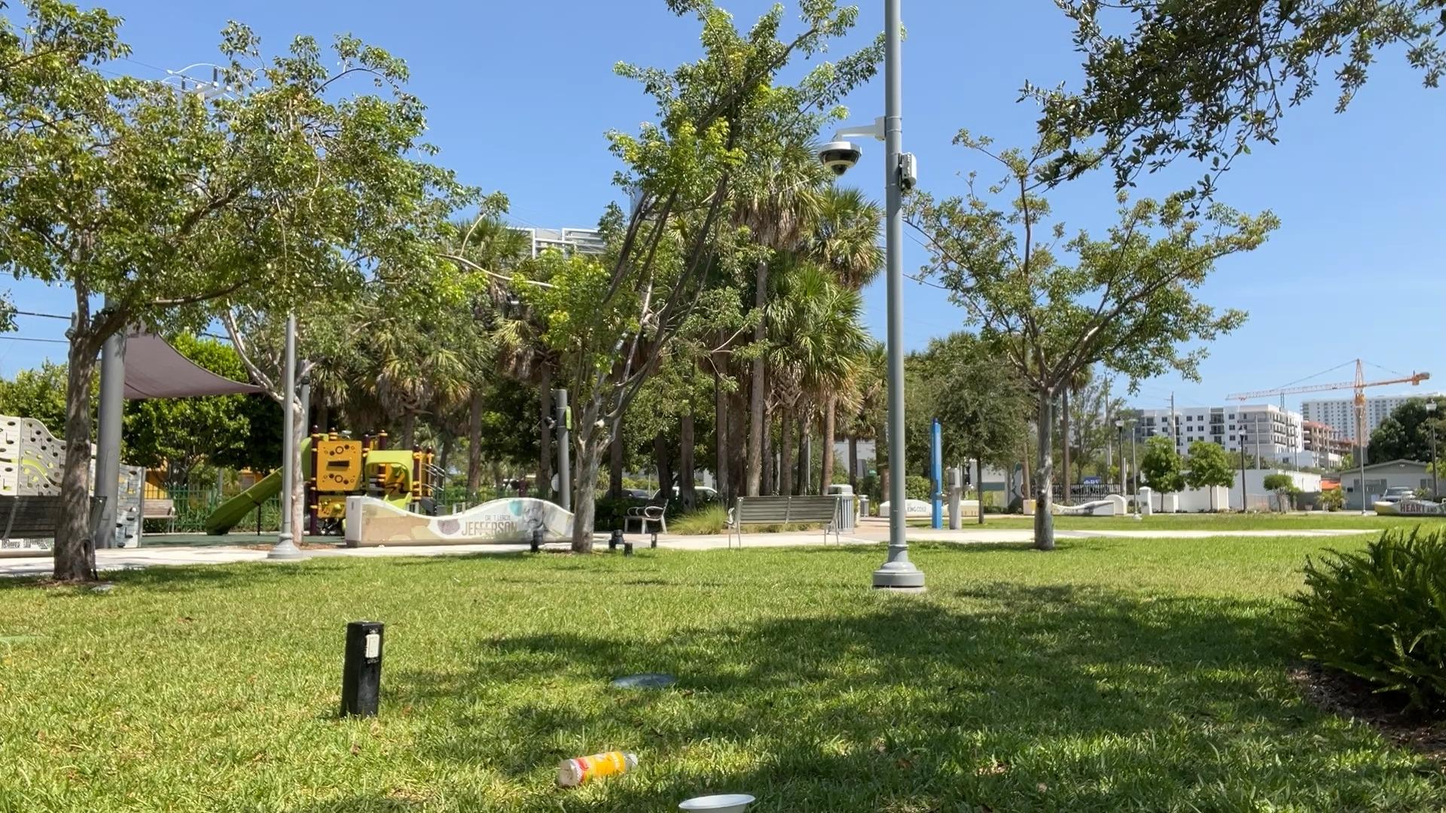Trash: (550, 736, 653, 799), (677, 779, 761, 813)
